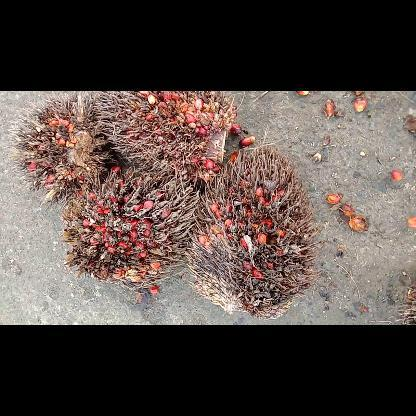Terlalu masak: (183, 141, 325, 321), (58, 167, 202, 295), (90, 91, 240, 193), (3, 90, 121, 209)
